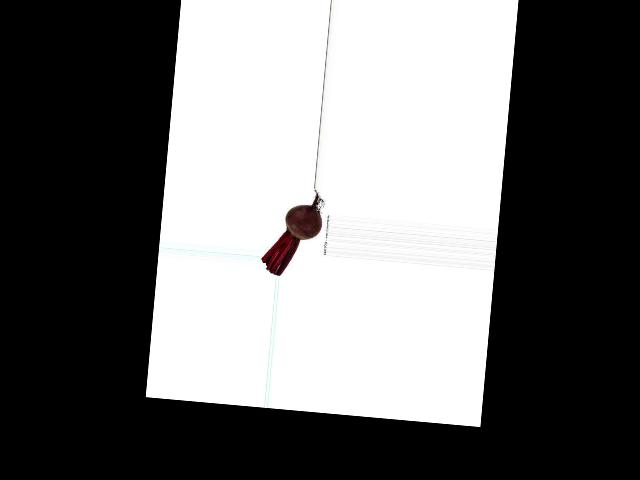beet: (260, 186, 324, 279)
